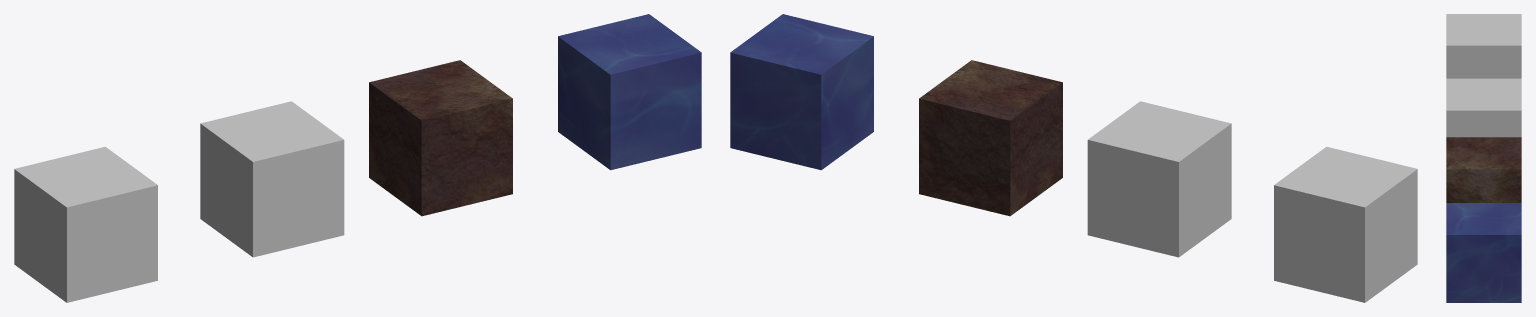
The model's file is floorGroundMaterials.fbx.
3 views of the same model, side by side, from view 1: azimuth 30°, elevation 25°; view 2: azimuth 150°, elevation 25°; view 3: azimuth 270°, elevation 25° (orthographic). The views are drawn at different scales.
Visible parts, largest first — view 1: woodMaterial, roseSandMaterial, whiteStoneMaterial, waterMaterial; view 2: woodMaterial, roseSandMaterial, whiteStoneMaterial, waterMaterial; view 3: waterMaterial, roseSandMaterial, whiteStoneMaterial, woodMaterial.
Part boxes in pixels (left/top/right/bottom): woodMaterial: left=200, top=101, right=344, bottom=257; roseSandMaterial: left=369, top=60, right=512, bottom=216; whiteStoneMaterial: left=14, top=146, right=157, bottom=302; waterMaterial: left=558, top=14, right=701, bottom=170; woodMaterial: left=1087, top=101, right=1231, bottom=257; roseSandMaterial: left=919, top=60, right=1062, bottom=216; whiteStoneMaterial: left=1274, top=146, right=1417, bottom=302; waterMaterial: left=730, top=14, right=873, bottom=170; waterMaterial: left=1446, top=203, right=1521, bottom=302; roseSandMaterial: left=1446, top=137, right=1521, bottom=202; whiteStoneMaterial: left=1446, top=14, right=1521, bottom=78; woodMaterial: left=1446, top=78, right=1521, bottom=137.
Bounding box in the file's own units: 6.96 × 1 × 1.
